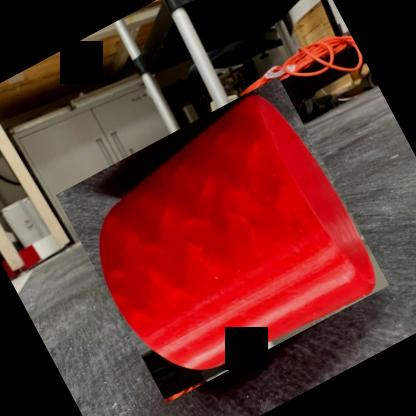red cylinder: (56, 76, 390, 404)
